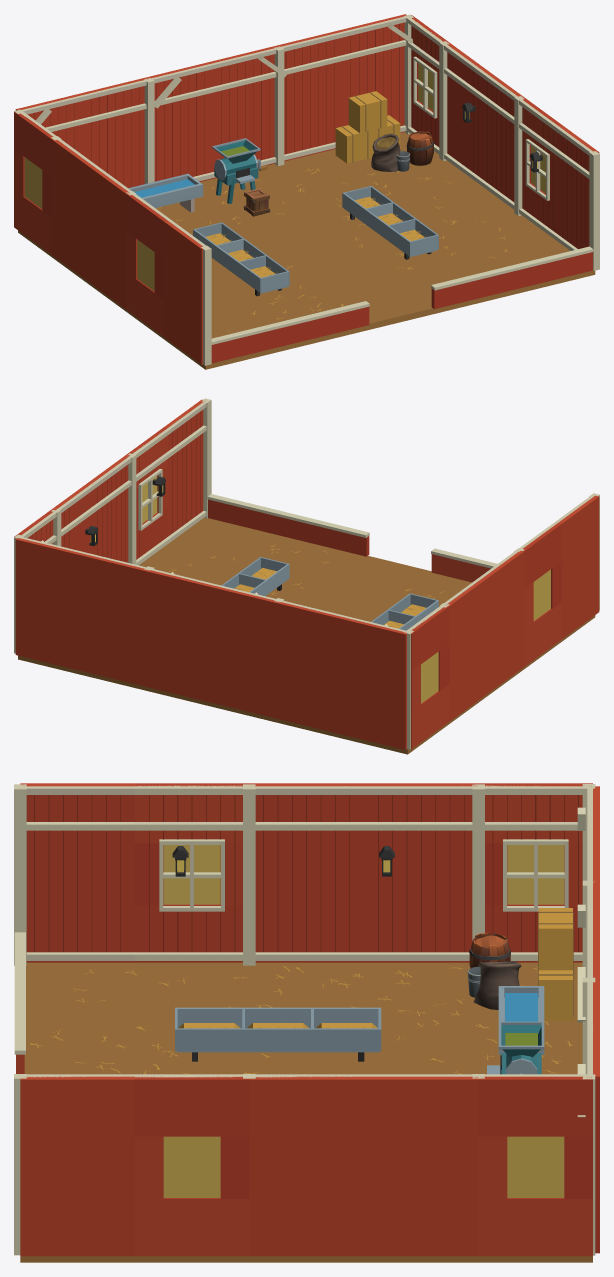
Rendered from BarnInterior_Lv1.fbx.
3 renders of one model, top to bottom at view 1: azimuth 30°, elevation 25°; view 2: azimuth 150°, elevation 25°; view 3: azimuth 270°, elevation 25°, orthographic. The views are drawn at different scales.
Visible parts, largest first — view 1: Lv1_Floor.001, Lv1_FrontCutaway.001, N01_Wall_2m.017, N01_Wall_2m.015, N01_Wall_2m.016, N01_Wall_2m.014, N01_Wall_2m.018, N01_Wall_2m.019, N01_Wall_2m.020, N01_Wall_2m.021, N01_WindowWall_2m.005, N01_WindowWall_2m.006 (+23 smaller); view 2: Lv1_Floor.001, N01_Wall_2m.013, N01_Wall_2m.018, N01_Wall_2m.015, N01_Wall_2m.016, N01_Wall_2m.017, N01_Wall_2m.014, Lv1_FrontCutaway.001, N01_Wall_2m.019, N01_Wall_2m.020, N01_WindowWall_2m.006, N01_Wall_2m.021 (+11 smaller); view 3: Lv1_Floor.001, N01_Wall_2m.024, N01_Wall_2m.022, N01_Wall_2m.023, N01_WindowWall_2m.007, N01_WindowWall_2m.008, N01_Wall_2m.019, N01_Wall_2m.020, N01_Wall_2m.021, N01_WindowWall_2m.005, N01_WindowWall_2m.006, FeedTrough_01.001 (+15 smaller).
Boxes of the visible parts, left/top/right/bottom form: Lv1_Floor.001: left=18, top=132, right=595, bottom=369; Lv1_FrontCutaway.001: left=211, top=246, right=593, bottom=363; N01_Wall_2m.017: left=276, top=30, right=344, bottom=161; N01_Wall_2m.015: left=146, top=61, right=214, bottom=181; N01_Wall_2m.016: left=211, top=46, right=276, bottom=178; N01_Wall_2m.014: left=81, top=77, right=147, bottom=188; N01_Wall_2m.018: left=341, top=14, right=406, bottom=132; N01_Wall_2m.019: left=164, top=220, right=207, bottom=364; N01_Wall_2m.020: left=89, top=165, right=131, bottom=309; N01_Wall_2m.021: left=51, top=139, right=95, bottom=281; N01_WindowWall_2m.005: left=126, top=194, right=170, bottom=336; N01_WindowWall_2m.006: left=14, top=111, right=55, bottom=254; Lv1_Floor.001: left=18, top=518, right=595, bottom=754; N01_Wall_2m.013: left=340, top=616, right=406, bottom=749; N01_Wall_2m.018: left=15, top=537, right=84, bottom=670; N01_Wall_2m.015: left=210, top=584, right=276, bottom=718; N01_Wall_2m.016: left=145, top=569, right=214, bottom=702; N01_Wall_2m.017: left=80, top=552, right=146, bottom=686; N01_Wall_2m.014: left=275, top=600, right=344, bottom=734; Lv1_FrontCutaway.001: left=207, top=494, right=497, bottom=582; N01_Wall_2m.019: left=555, top=495, right=599, bottom=639; N01_Wall_2m.020: left=480, top=551, right=524, bottom=693; N01_WindowWall_2m.006: left=408, top=606, right=449, bottom=749; N01_Wall_2m.021: left=444, top=577, right=486, bottom=721; Lv1_Floor.001: left=20, top=962, right=592, bottom=1262; N01_Wall_2m.024: left=364, top=1074, right=478, bottom=1256; N01_Wall_2m.022: left=20, top=1074, right=134, bottom=1256; N01_Wall_2m.023: left=249, top=1074, right=363, bottom=1256; N01_WindowWall_2m.007: left=135, top=1074, right=249, bottom=1256; N01_WindowWall_2m.008: left=478, top=1074, right=592, bottom=1256; N01_Wall_2m.019: left=20, top=783, right=134, bottom=962; N01_Wall_2m.020: left=249, top=783, right=363, bottom=962; N01_Wall_2m.021: left=364, top=783, right=478, bottom=962; N01_WindowWall_2m.005: left=135, top=783, right=249, bottom=962; N01_WindowWall_2m.006: left=478, top=783, right=592, bottom=962; FeedTrough_01.001: left=175, top=1007, right=381, bottom=1061.
Bounding box in the file's own units: 12.26 × 3.58 × 10.23.
